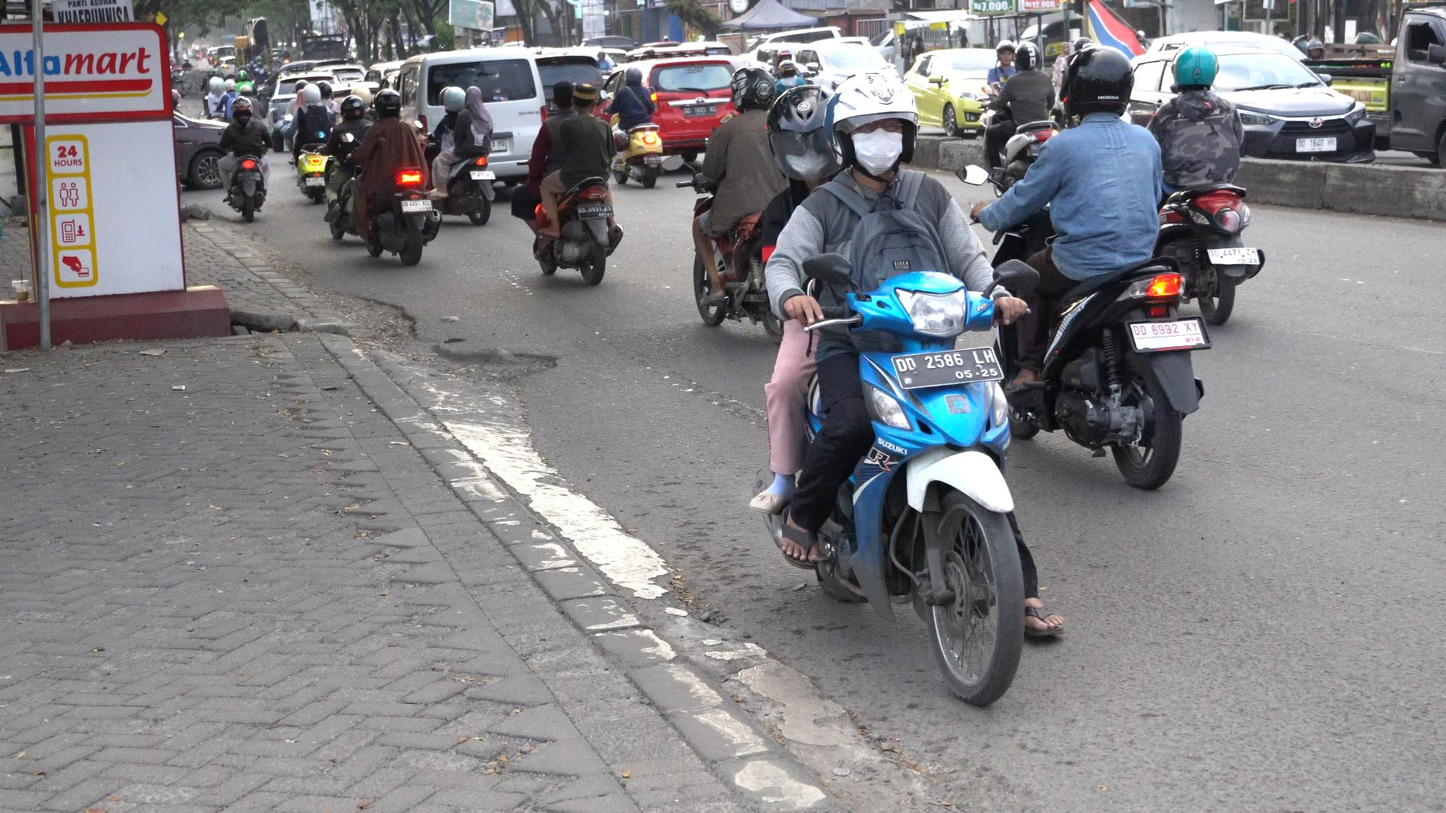number-plate: (892, 345, 1004, 395)
